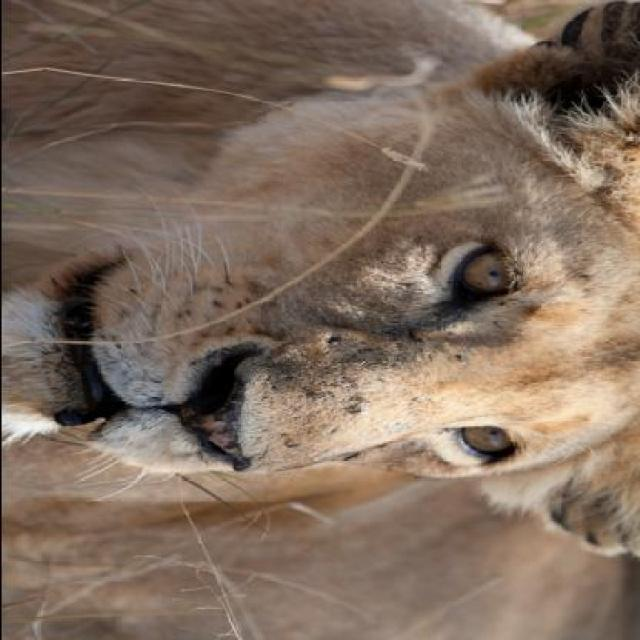Lion: (1, 1, 634, 582)
